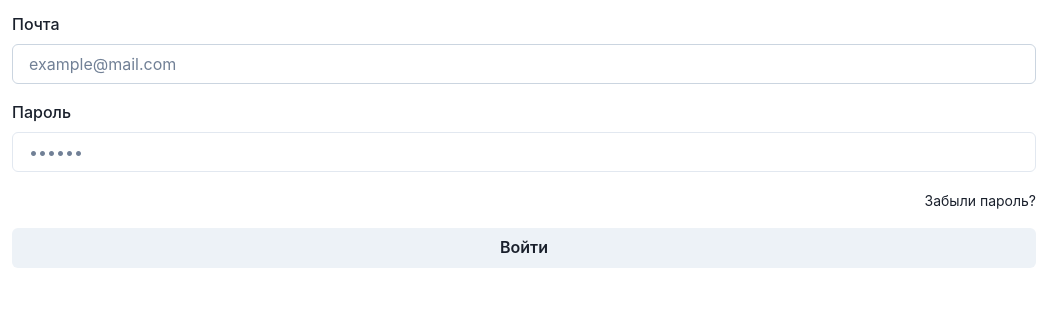
Test case: LoginForm › показывает ошибку при невалидном email
The width and height of the screenshot is (1048, 327).
Type "notanemail" into the field with placeholder "example@mail.com" at (524, 64), box left=12, top=44, right=1036, bottom=84
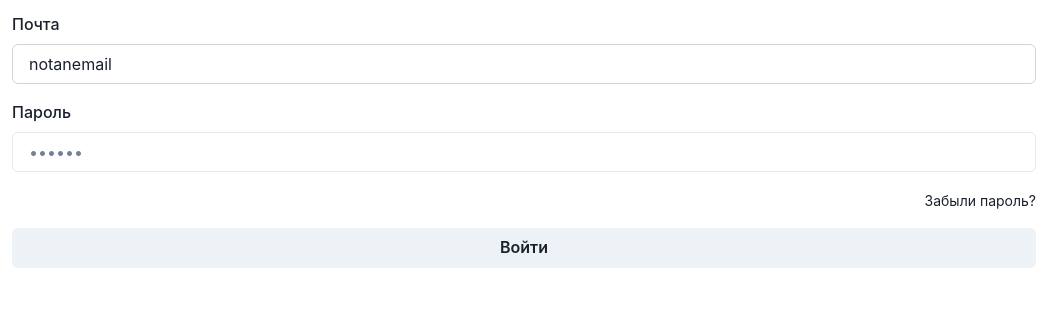
Submit the form with placeholder "example@mail.com"
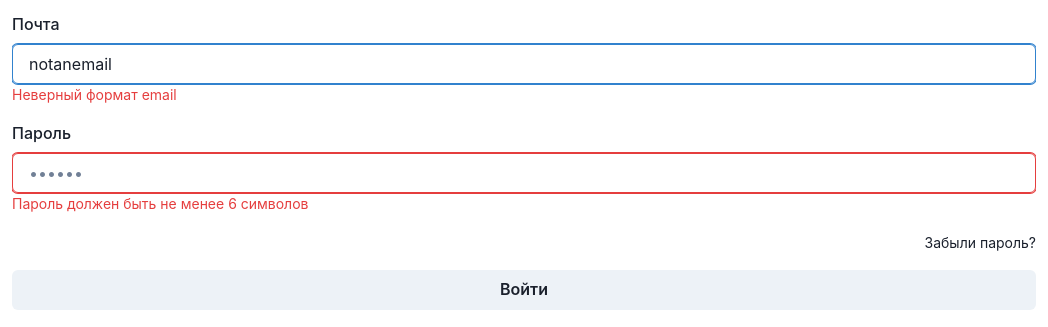
Now the text "Неверный формат email" is shown, box left=12, top=86, right=177, bottom=103
